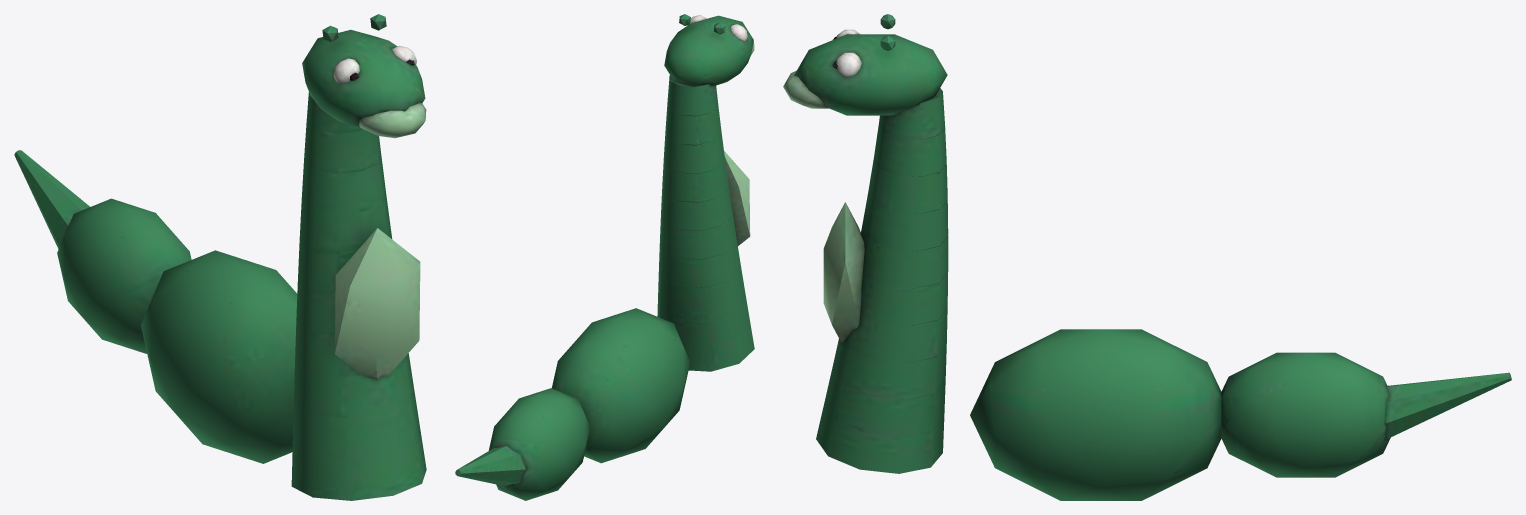
The model's file is champ.glb.
The picture shows the model from 3 angles, left to right: view 1: azimuth 30°, elevation 25°; view 2: azimuth 150°, elevation 25°; view 3: azimuth 270°, elevation 25°; orthographic projection. The views are drawn at different scales.
Parts seen in each view (by area): view 1: champ; view 2: champ; view 3: champ.
Part boxes in pixels (left/top/right/bottom): champ: left=14, top=14, right=426, bottom=500; champ: left=455, top=14, right=754, bottom=500; champ: left=783, top=14, right=1511, bottom=500.
Bounding box in the file's own units: 1.67 × 6.15 × 8.54.
Materials: 1 (1 with a texture image).
